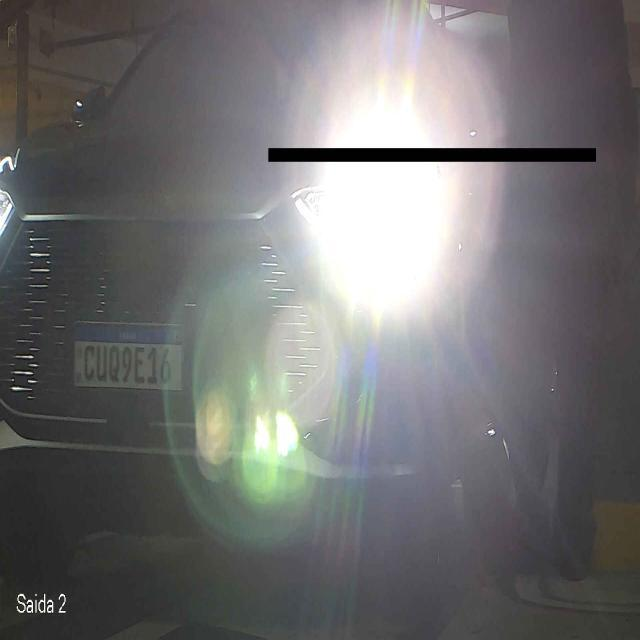mercosul_plate: (69, 319, 187, 394)
